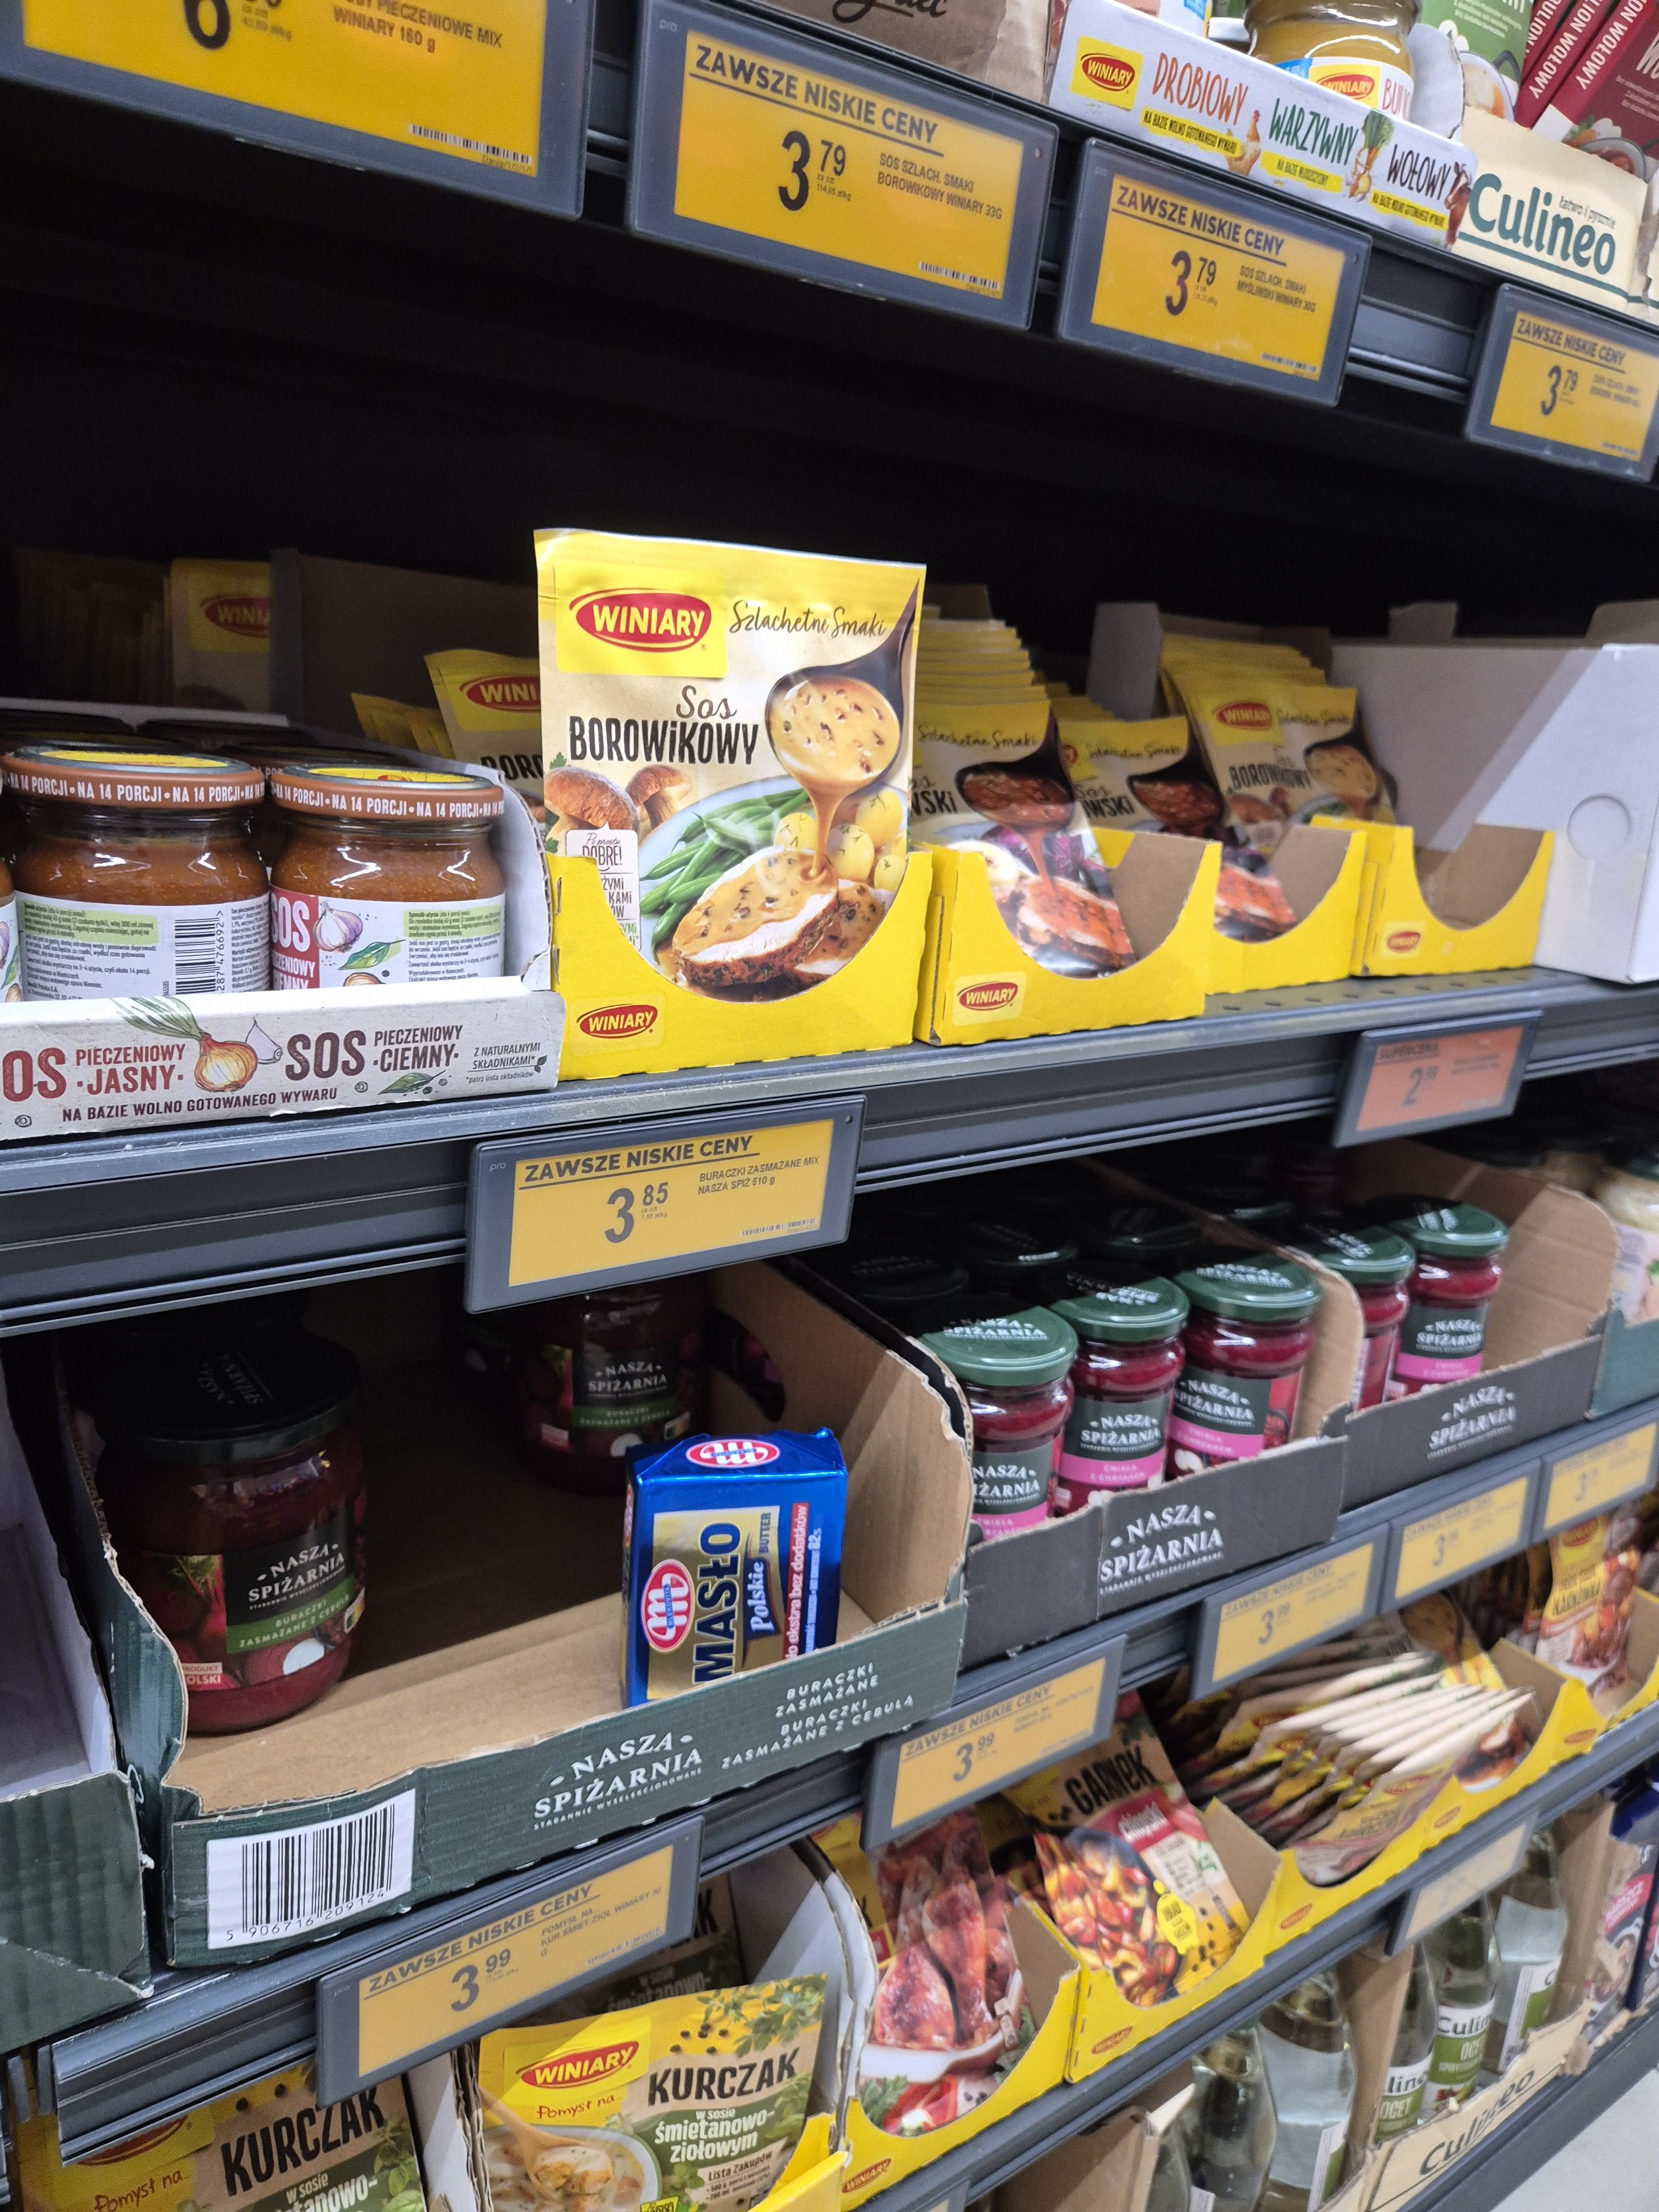Butter: (605, 1418, 871, 1731)
